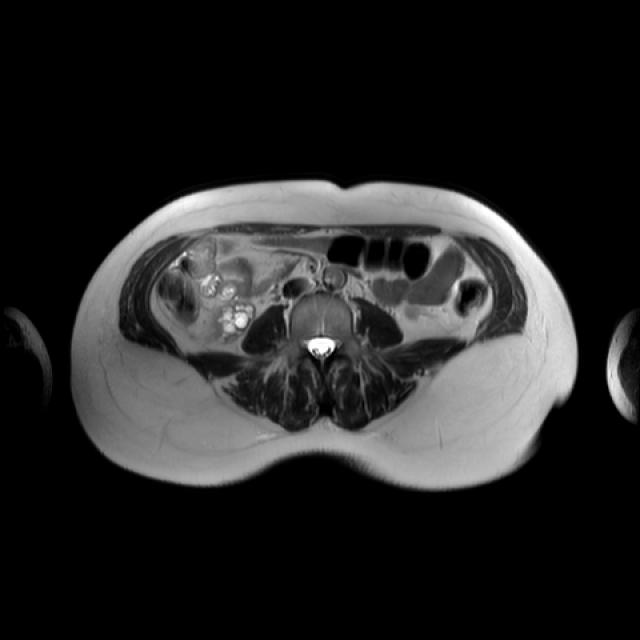sag: (214, 301, 257, 344)
